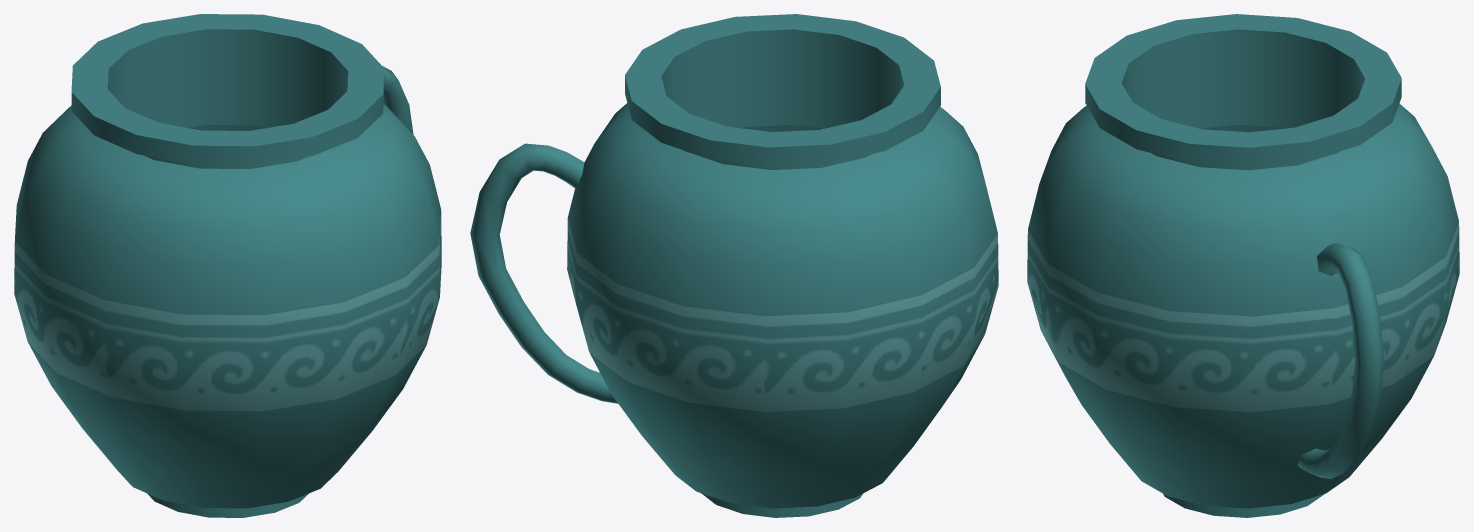
Rendered from 2water_8.fbx.
The picture shows the model from 3 angles, left to right: view 1: azimuth 30°, elevation 25°; view 2: azimuth 150°, elevation 25°; view 3: azimuth 270°, elevation 25°; orthographic projection.
Visible parts, largest first — view 1: 8; view 2: 8; view 3: 8.
Boxes of the visible parts, x1,y1,x2,y2 form: 8: (14,14,441,517); 8: (470,14,998,517); 8: (1027,14,1459,517).
Size of the model in its own units: 51.54 by 44.54 by 45.5.
Materials: 1 (1 with a texture image).
